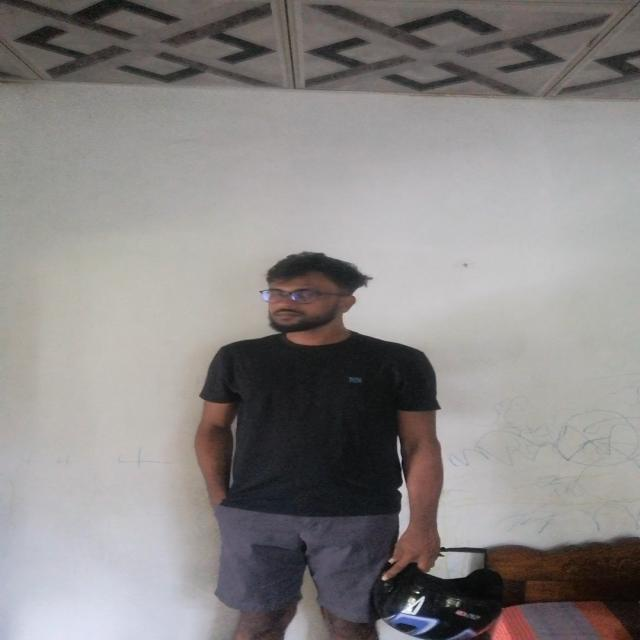Person: (194, 247, 441, 640)
